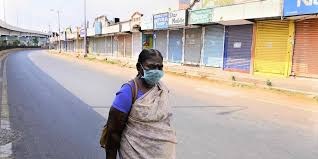mask: (136, 45, 165, 89)
